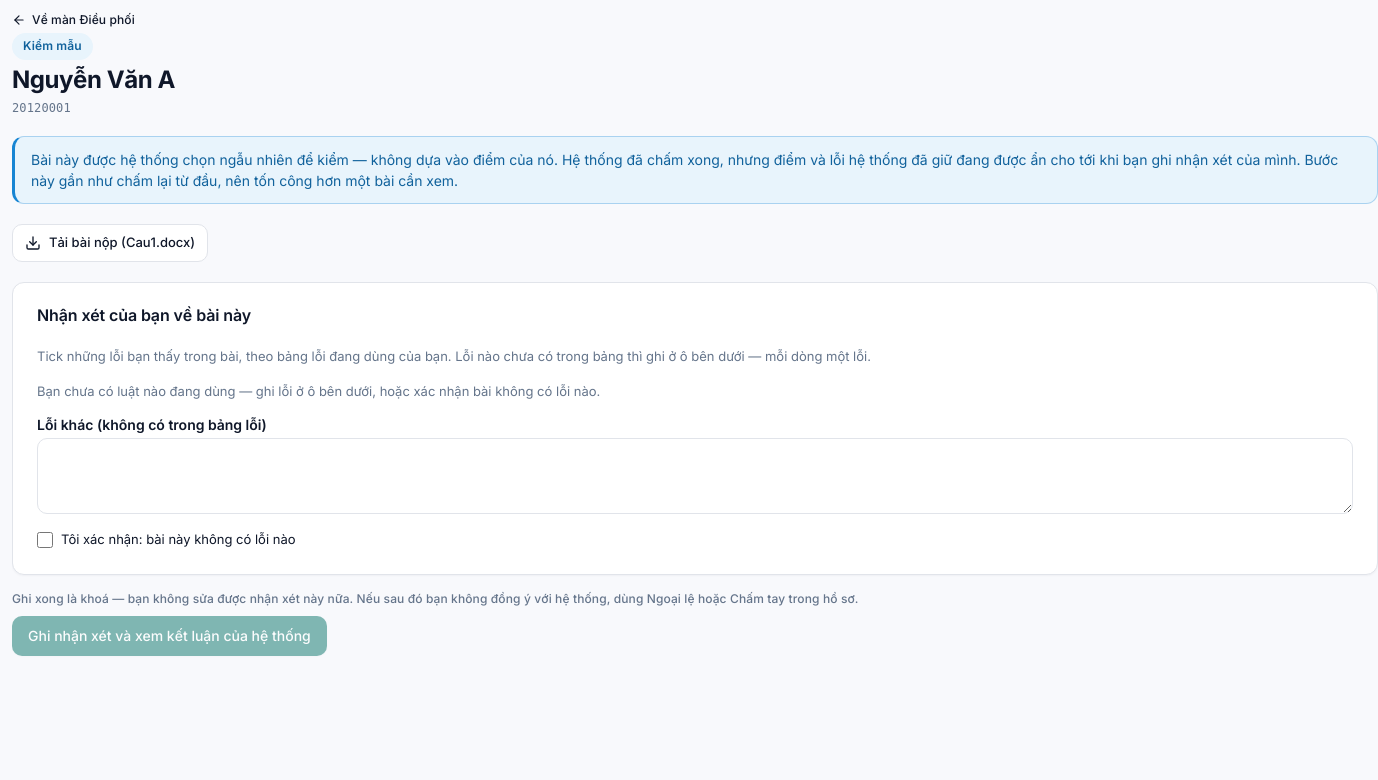
Test: AuditReview — before the label is written › a teacher with no active rules is told so, and can still label with "other" lines
Expected: the text "chưa có luật nào đang dùng" is shown, [37,383,600,399]
Type "Thiếu chú thích" into the text box labelled "Lỗi khác (không có trong bảng lỗi)" at (695,476), box [37,438,1353,514]
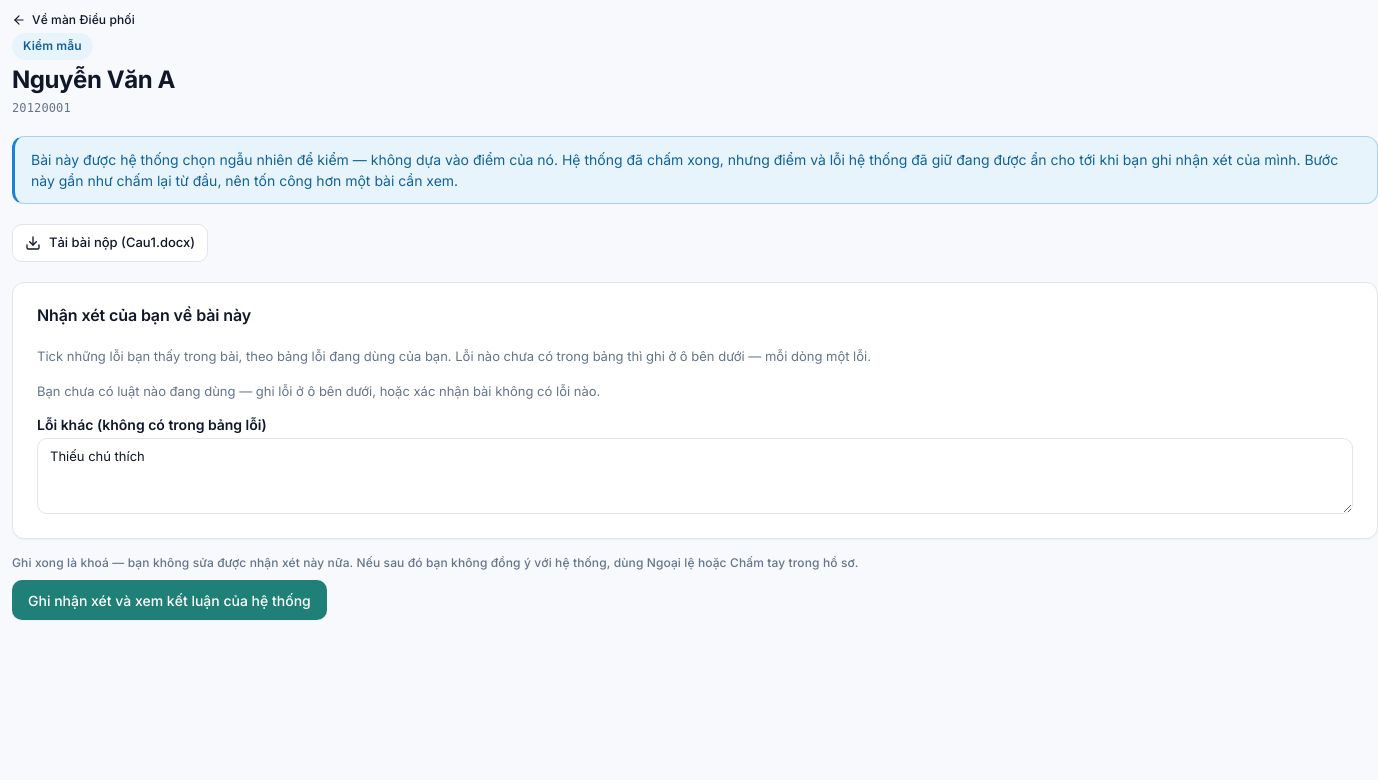
Expected: the button "Ghi nhận xét và xem kết luận của hệ thống" is enabled, [12,580,327,620]
